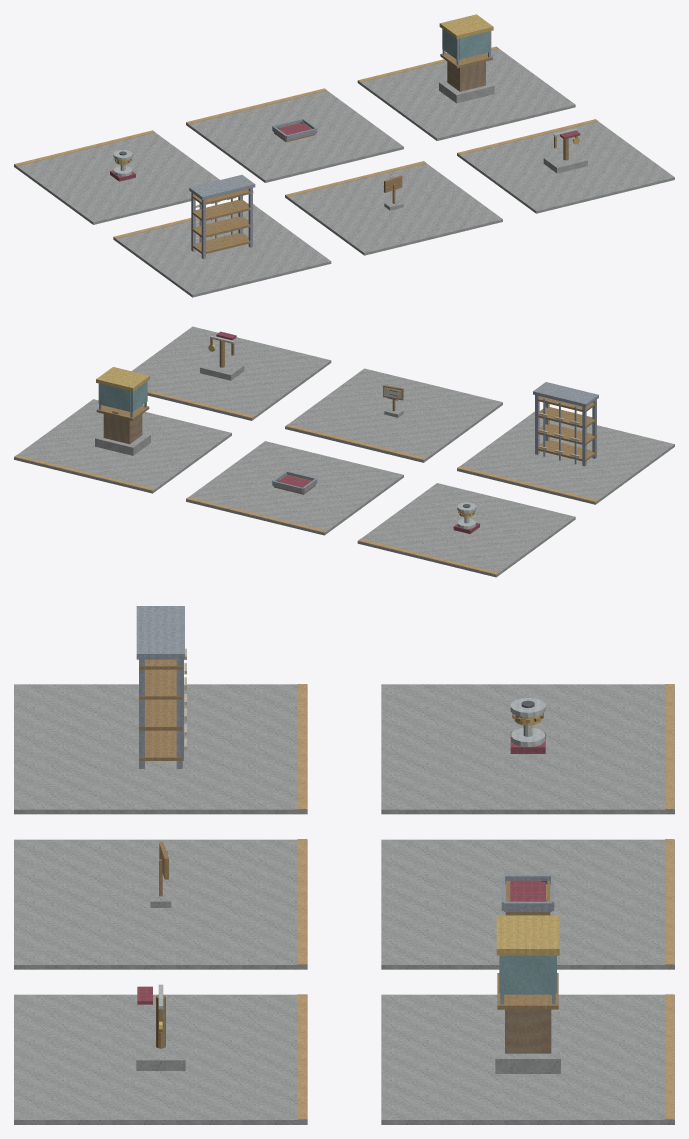
Rendered from level_blockout_kit_castle_p06.glb.
3 renders of one model, top to bottom at view 1: azimuth 30°, elevation 25°; view 2: azimuth 150°, elevation 25°; view 3: azimuth 270°, elevation 25°, orthographic. The views are drawn at different scales.
Visible parts, largest first — view 1: level_blockout_kit_castle_p06; view 2: level_blockout_kit_castle_p06; view 3: level_blockout_kit_castle_p06.
Boxes of the visible parts, <box> form: level_blockout_kit_castle_p06: <box>14,14,674,297</box>; level_blockout_kit_castle_p06: <box>14,326,674,577</box>; level_blockout_kit_castle_p06: <box>14,606,674,1124</box>.
Size of the model in its own units: 19.65 by 2.73 by 12.6.
Materials: 11 (11 with a texture image).
